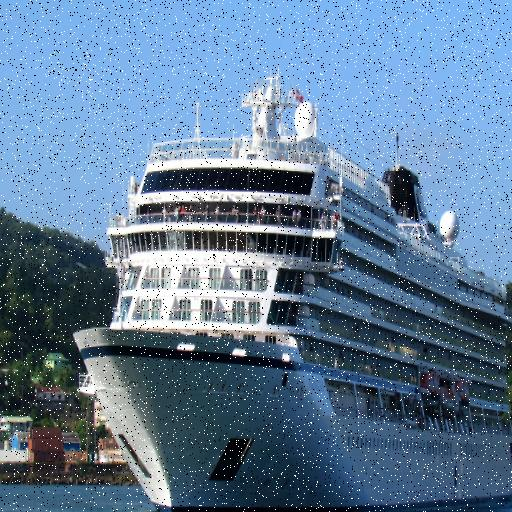cruises: (72, 72, 512, 512)
